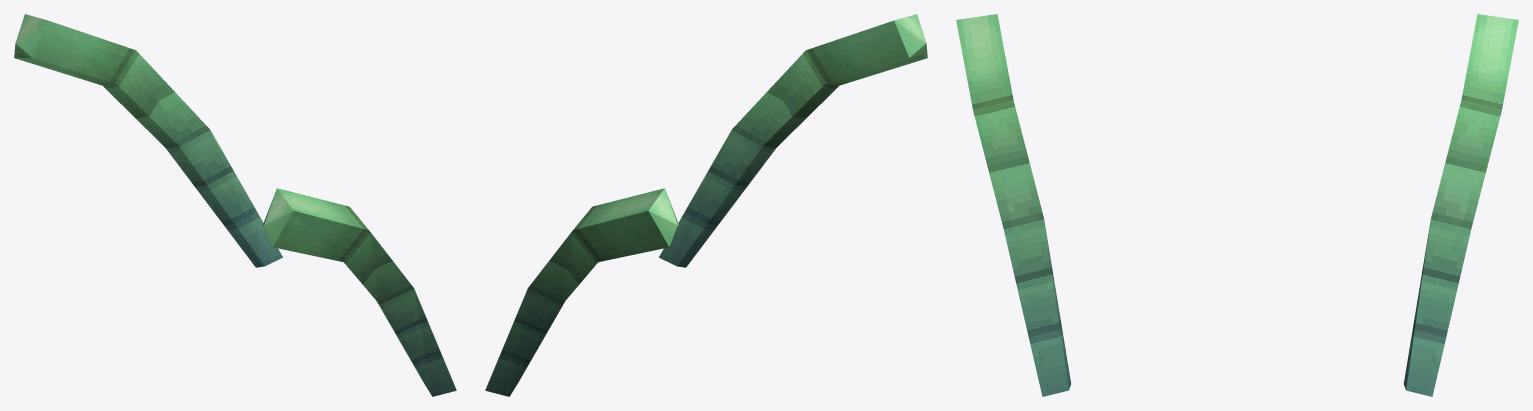
The model's file is Bat_bugAntenna.obj.
3 views of the same model, side by side, from view 1: azimuth 30°, elevation 25°; view 2: azimuth 150°, elevation 25°; view 3: azimuth 270°, elevation 25° (orthographic). The views are drawn at different scales.
Parts seen in each view (by area): view 1: Bat_bugAntenna_tri; view 2: Bat_bugAntenna_tri; view 3: Bat_bugAntenna_tri.
Part boxes in pixels (x1=…): Bat_bugAntenna_tri: x1=14, y1=14, x2=456, y2=396; Bat_bugAntenna_tri: x1=485, y1=14, x2=927, y2=396; Bat_bugAntenna_tri: x1=956, y1=14, x2=1518, y2=396.
Size of the model in its own units: 0.0793 by 0.0921 by 0.1647.
Materials: 1 (1 with a texture image).
